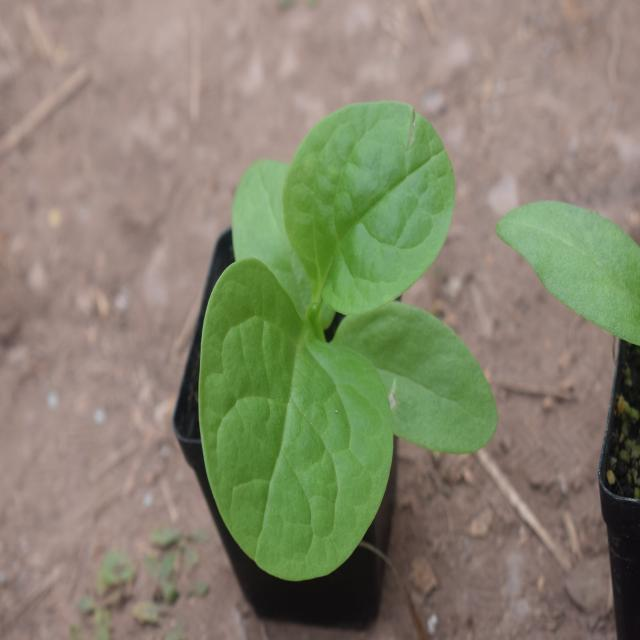Ceylon spinach: (205, 73, 516, 596)
